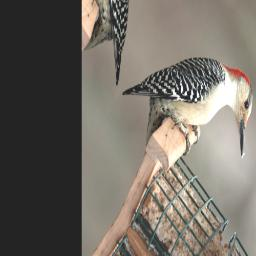Woodpecker: (117, 0, 256, 235)
